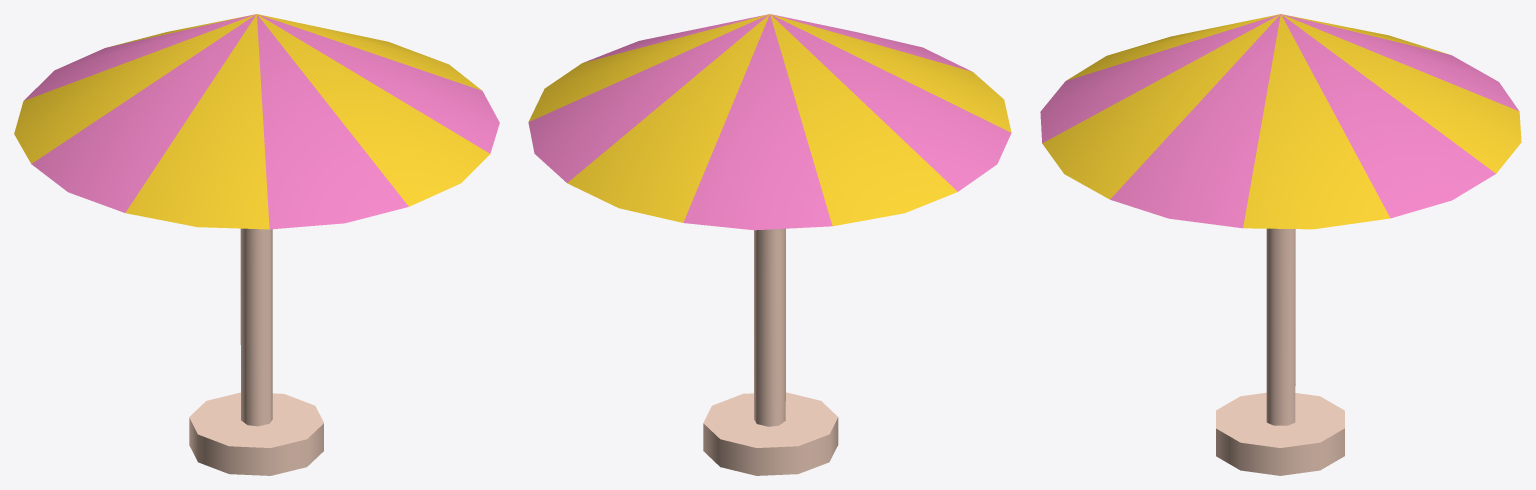
Rendered from umbrella01_s02.FBX.
The picture shows the model from 3 angles, left to right: view 1: azimuth 30°, elevation 25°; view 2: azimuth 150°, elevation 25°; view 3: azimuth 270°, elevation 25°; orthographic projection.
Visible parts, largest first — view 1: umbrella01_s02; view 2: umbrella01_s02; view 3: umbrella01_s02.
Boxes of the visible parts, <box> form: umbrella01_s02: <box>14,14,499,475</box>; umbrella01_s02: <box>528,14,1011,475</box>; umbrella01_s02: <box>1040,14,1521,475</box>.
Size of the model in its own units: 336 by 336 by 334.
Materials: 1 (1 with a texture image).
